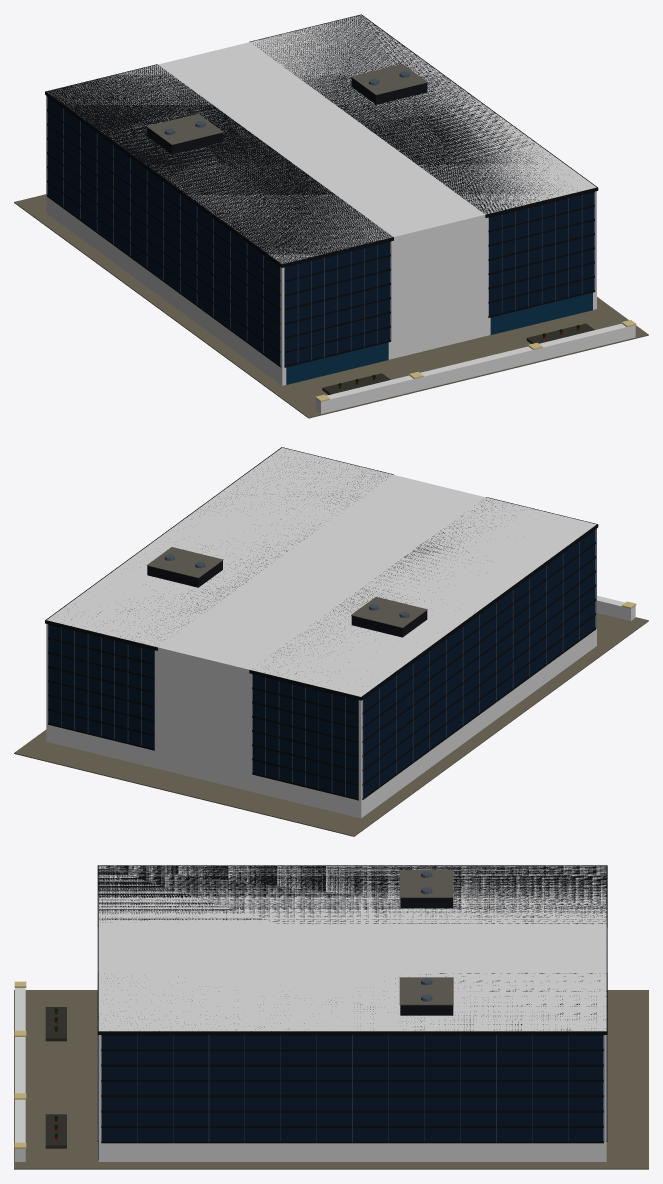
The model's file is B41_it_park_omr.glb.
3 renders of one model, top to bottom at view 1: azimuth 30°, elevation 25°; view 2: azimuth 150°, elevation 25°; view 3: azimuth 270°, elevation 25°, orthographic. The views are drawn at different scales.
Visible parts, largest first — view 1: LOD0, COL_Main, COL_Compound; view 2: COL_Main, LOD0, COL_Compound; view 3: LOD0, COL_Main, COL_Compound.
Part boxes in pixels (x1,y1,x2,y2): LOD0: (14, 14, 648, 418); COL_Main: (46, 15, 596, 385); COL_Compound: (316, 323, 635, 413); COL_Main: (46, 447, 596, 818); LOD0: (14, 447, 648, 836); COL_Compound: (597, 595, 635, 620); LOD0: (14, 865, 648, 1169); COL_Main: (98, 865, 606, 1161); COL_Compound: (15, 988, 25, 1161).
Size of what is drawn, in the model's own units: 80 by 30.3 by 120.
